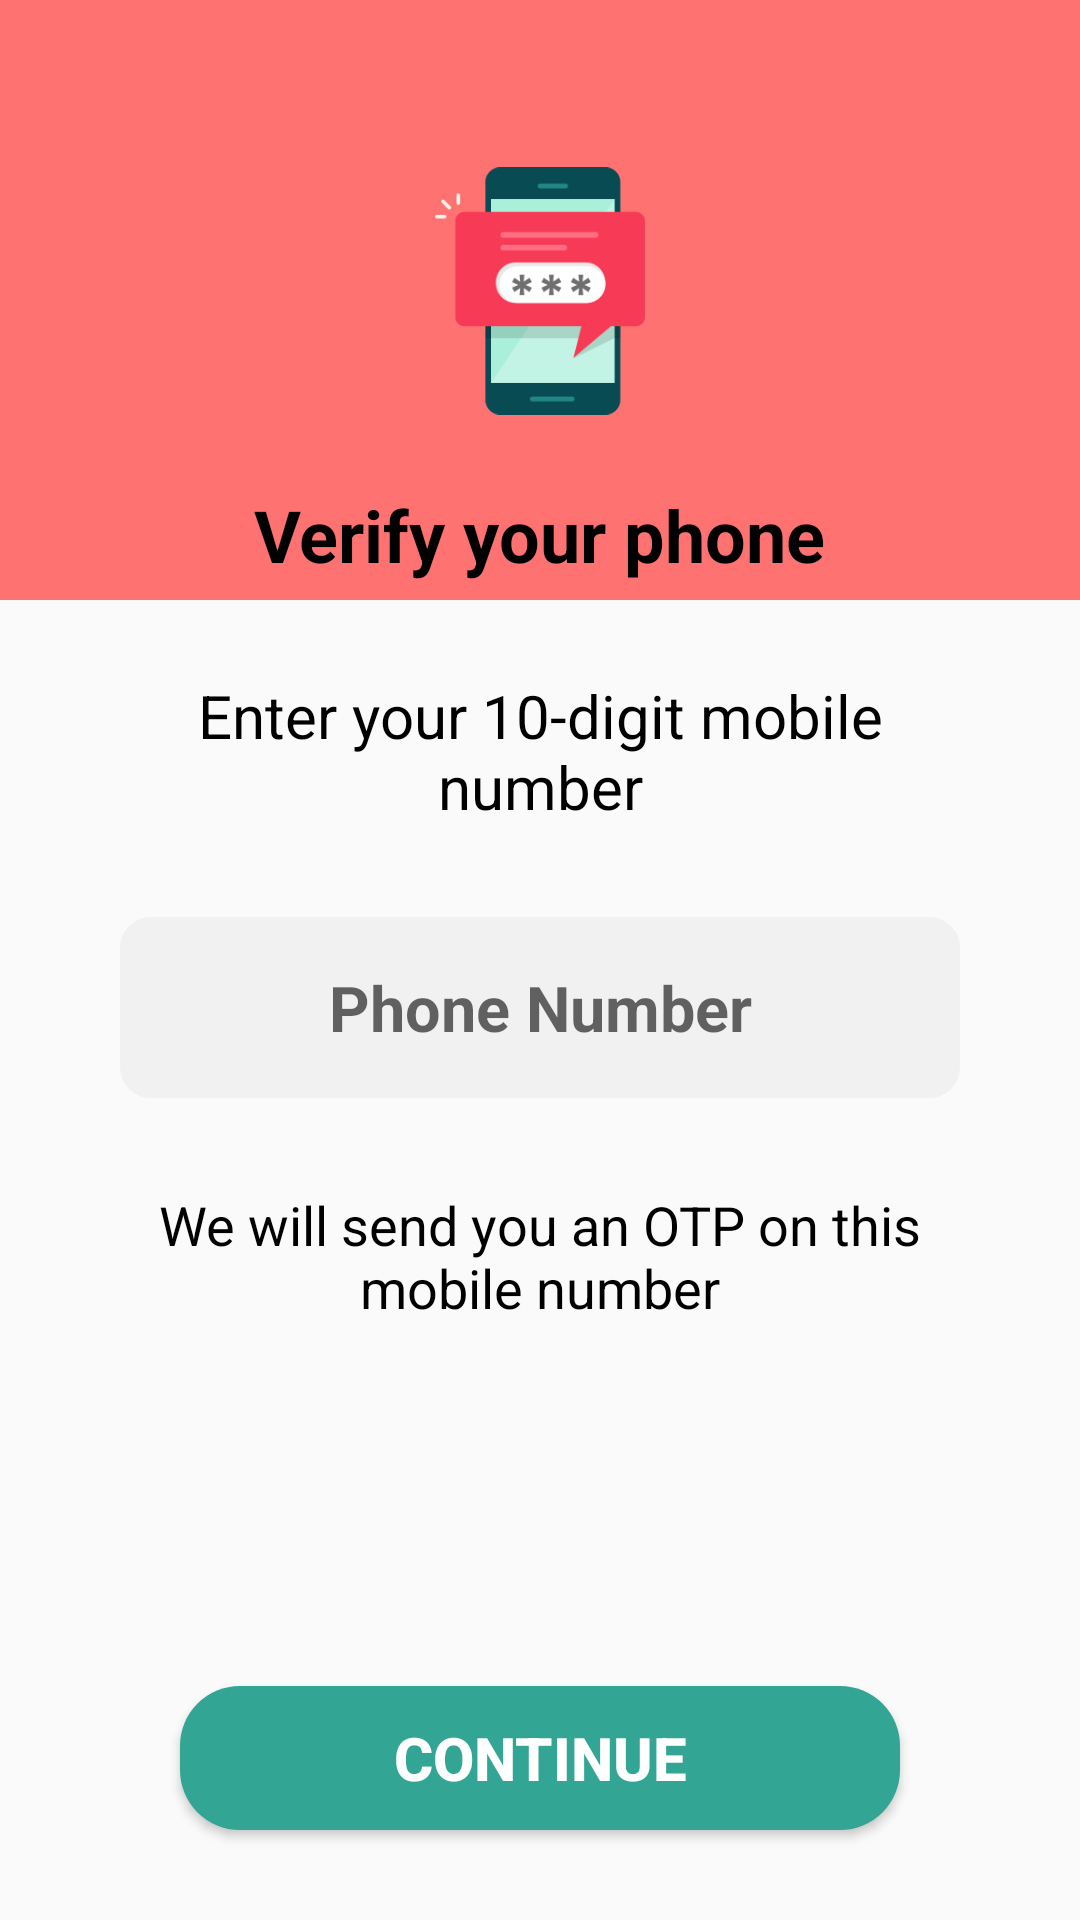

Icon bounding boxes for this 1080*1920 phone screenshot, format (x1, y1, x2, y2):
otp: (435, 167, 645, 415)
